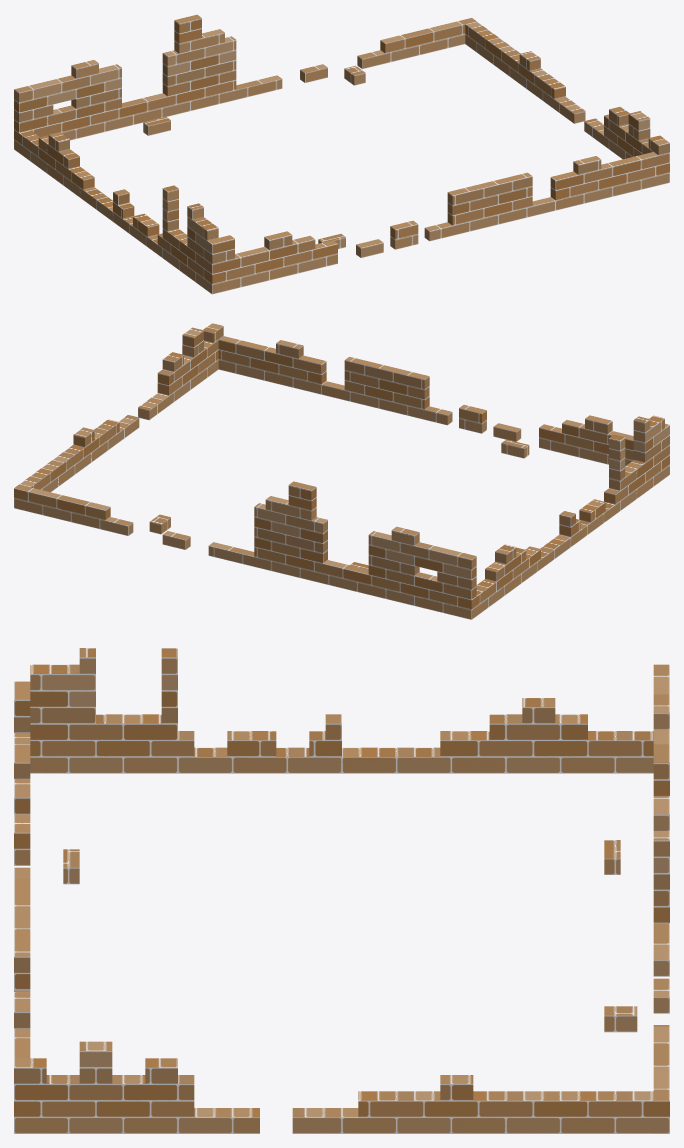
Rendered from brick-ruins-full.fbx.
3 views of the same model, one above another, from view 1: azimuth 30°, elevation 25°; view 2: azimuth 150°, elevation 25°; view 3: azimuth 270°, elevation 25° (orthographic). The views are drawn at different scales.
Visible parts, largest first — view 1: brick-ruins-full; view 2: brick-ruins-full; view 3: brick-ruins-full.
Part boxes in pixels (bbox=[...]): brick-ruins-full: bbox=[14, 14, 669, 294]; brick-ruins-full: bbox=[14, 323, 669, 619]; brick-ruins-full: bbox=[14, 648, 669, 1133].
Bounding box in the file's own units: 800 × 151 × 600.
Materials: 1 (1 with a texture image).
